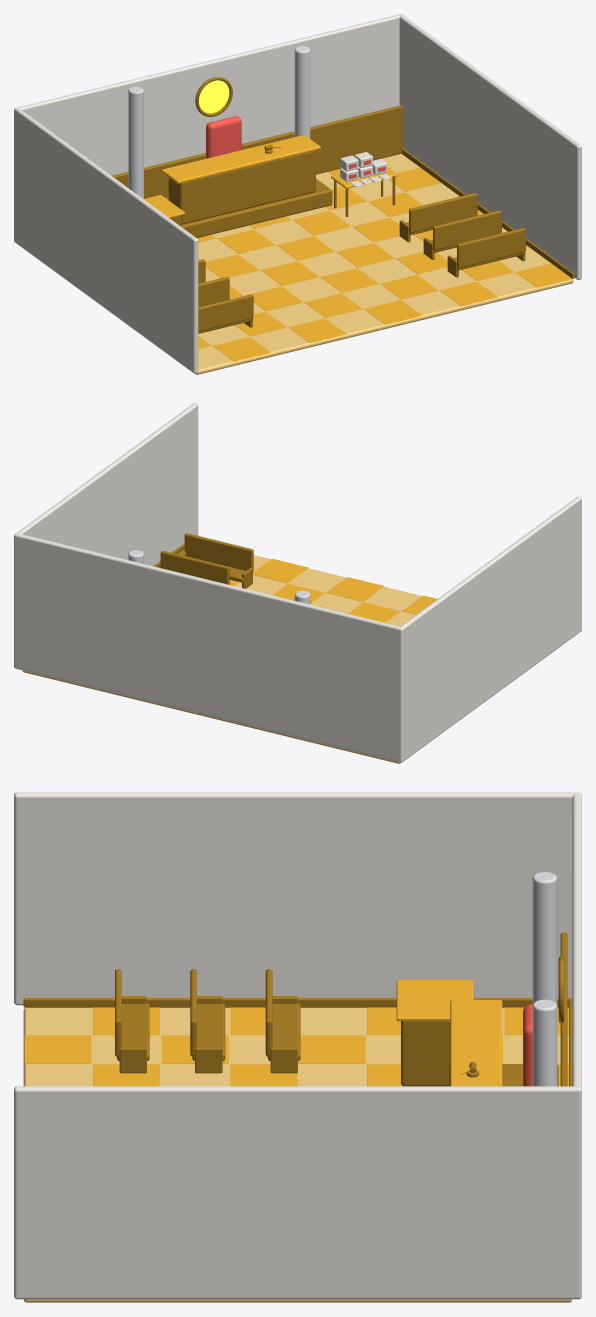
The model's file is courtroom_drama.glb.
3 views of the same model, one above another, from view 1: azimuth 30°, elevation 25°; view 2: azimuth 150°, elevation 25°; view 3: azimuth 270°, elevation 25° (orthographic). The views are drawn at different scales.
Visible parts, largest first — view 1: Set, Flat_001, Flat_021, Flat_009, Flat_017, Flat_019, Flat_024, Flat_027, Flat_028, Flat_029, Flat_020, Flat_023 (+13 smaller); view 2: Set, Flat_001, Flat_025, Flat_033, Flat_021; view 3: Set, Flat_001, Flat_009, Flat_007, Flat_012, Flat_013, Flat_008, Flat_004, Flat_005, Flat_003, Flat_011, Flat_002.
Part boxes in pixels (box(x1,y1,x2,y2)): Set: box(14, 14, 581, 373); Flat_001: box(195, 154, 573, 374); Flat_021: box(304, 293, 362, 317); Flat_009: box(213, 337, 270, 361); Flat_017: box(289, 318, 346, 342); Flat_019: box(217, 229, 274, 253); Flat_024: box(321, 268, 378, 292); Flat_027: box(293, 211, 350, 235); Flat_028: box(337, 242, 394, 267); Flat_029: box(380, 275, 438, 299); Flat_020: box(261, 261, 318, 285); Flat_023: box(277, 236, 334, 260); Set: box(14, 403, 581, 762); Flat_001: box(22, 555, 421, 763); Flat_025: box(326, 577, 384, 601); Flat_033: box(253, 558, 308, 583); Flat_021: box(348, 602, 400, 622); Set: box(14, 792, 581, 1299); Flat_001: box(23, 1007, 572, 1302); Flat_009: box(24, 1035, 91, 1063); Flat_007: box(298, 1035, 365, 1063); Flat_012: box(230, 1064, 297, 1086); Flat_013: box(93, 1064, 159, 1086); Flat_008: box(161, 1035, 228, 1063); Flat_004: box(230, 1007, 265, 1034); Flat_005: box(93, 1007, 159, 1034); Flat_003: box(367, 1007, 400, 1034); Flat_011: box(367, 1064, 402, 1086); Flat_002: box(504, 1007, 568, 1034).
Bounding box in the file's own units: 10.28 × 3.52 × 8.28.
